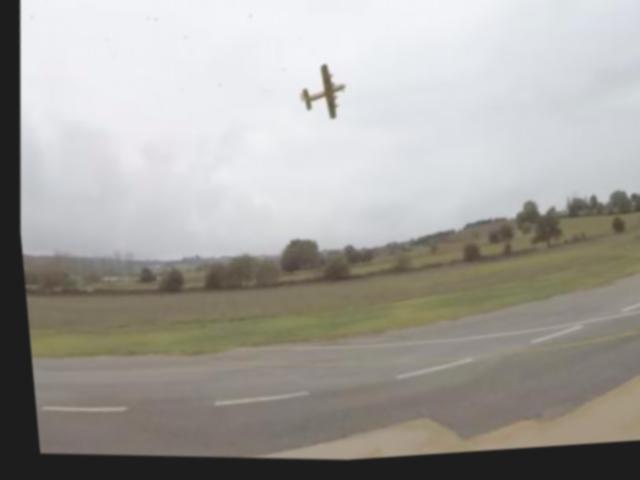uav: (289, 60, 352, 133)
